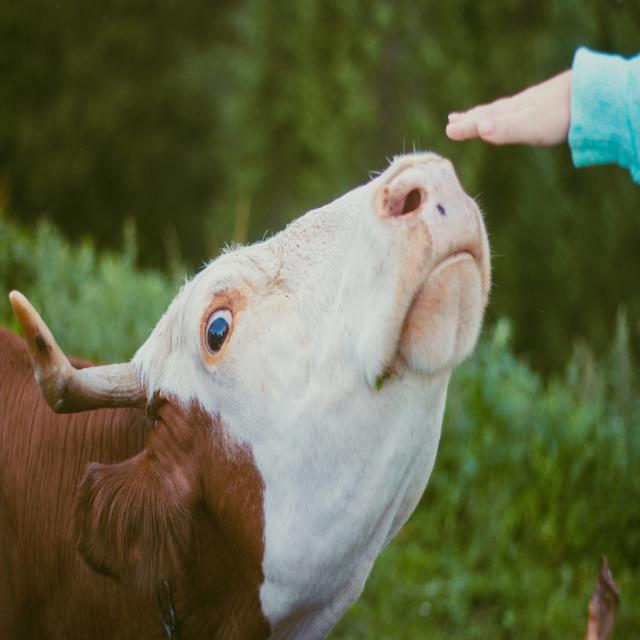Cattle: (0, 99, 517, 624)
